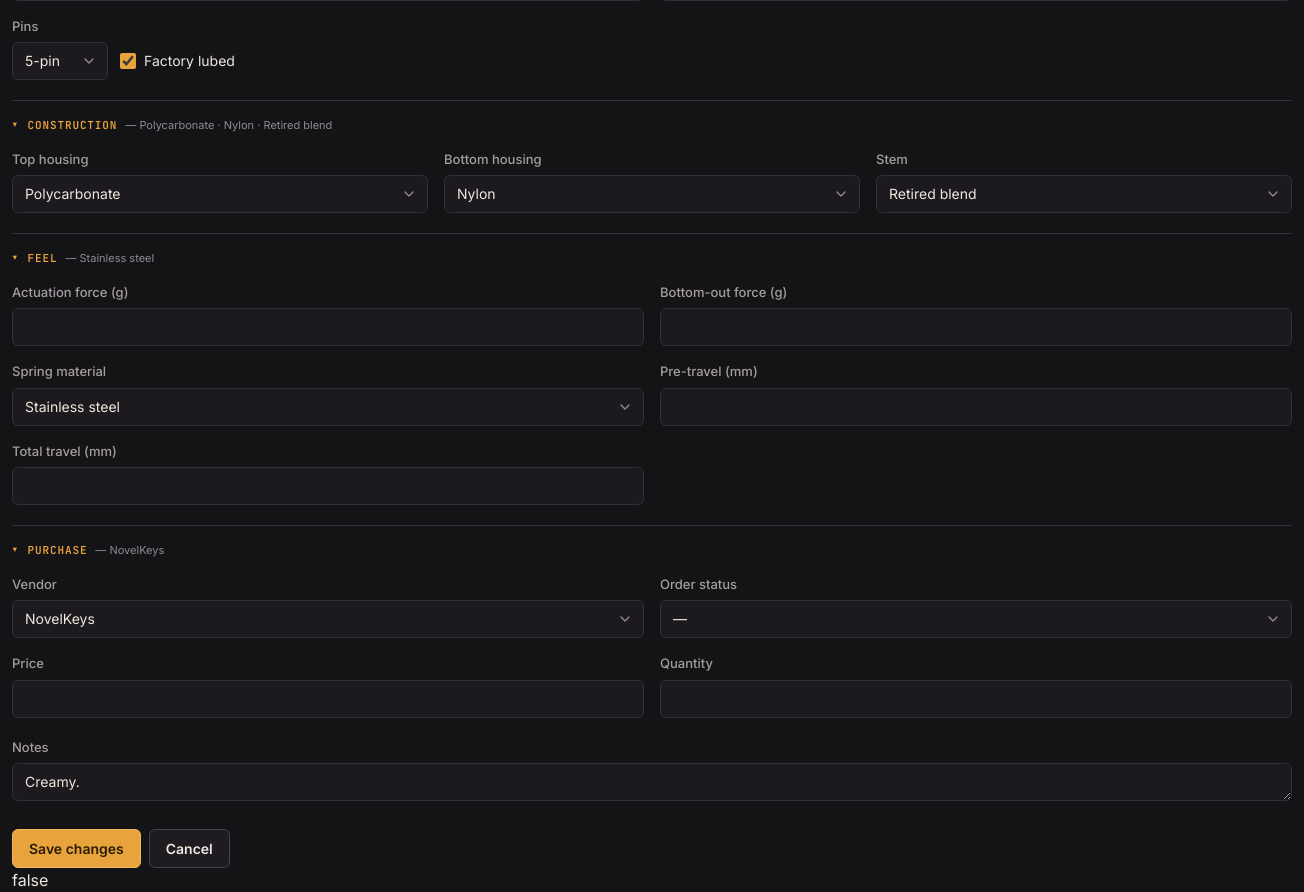
Test: SwitchForm.svelte › cleared number fields › Price leaves the form clean once typed into and cleared
This screenshot has width=1304, height=892.
(page scrolled)
Step 1. Type "5" into the number field labelled "Price" → (328, 699), box x1=12 y1=680 x2=644 y2=718
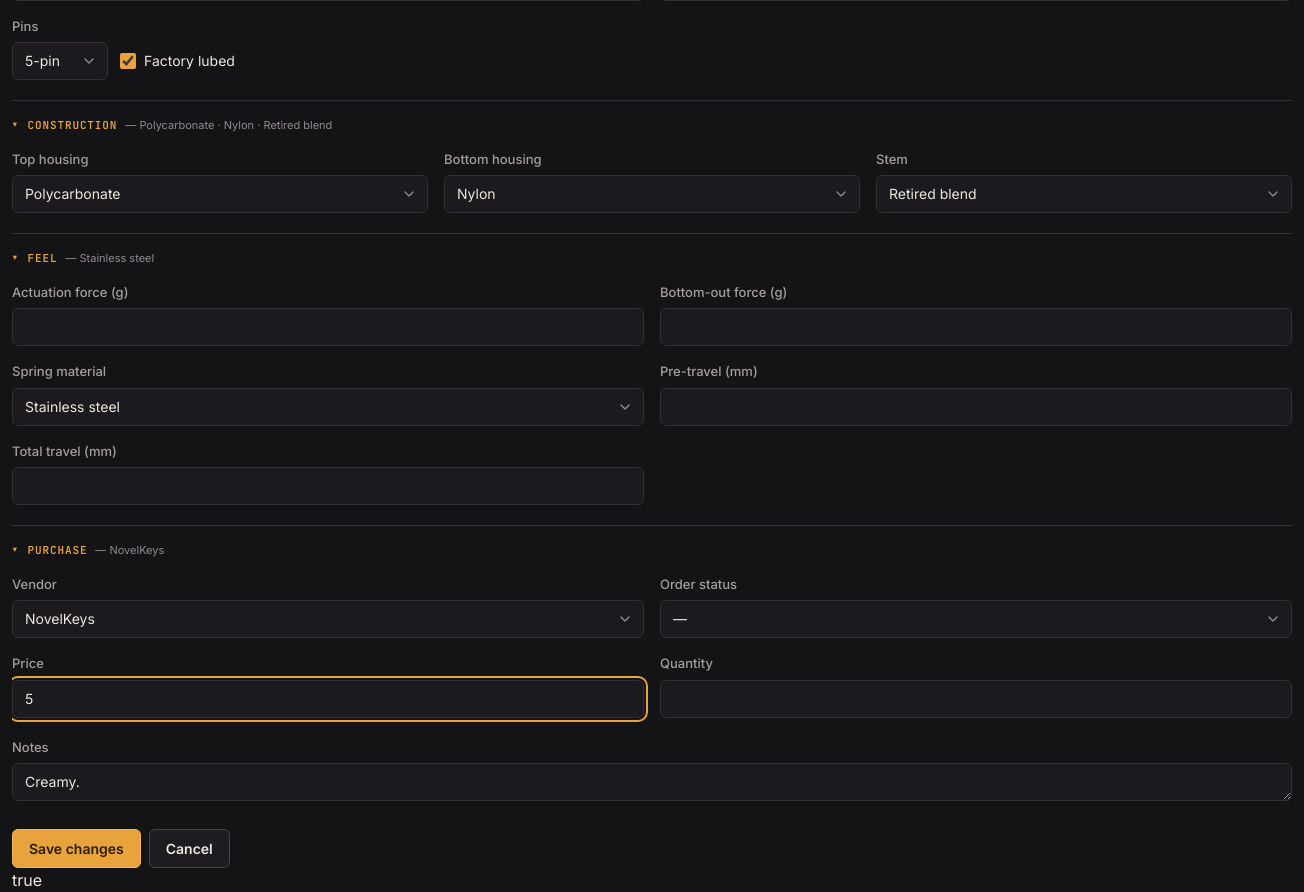
Check: the text with test id "dirty" reads "true", box x1=12 y1=870 x2=42 y2=890
Step 2. Clear the number field labelled "Price" → (328, 699), box x1=12 y1=680 x2=644 y2=718
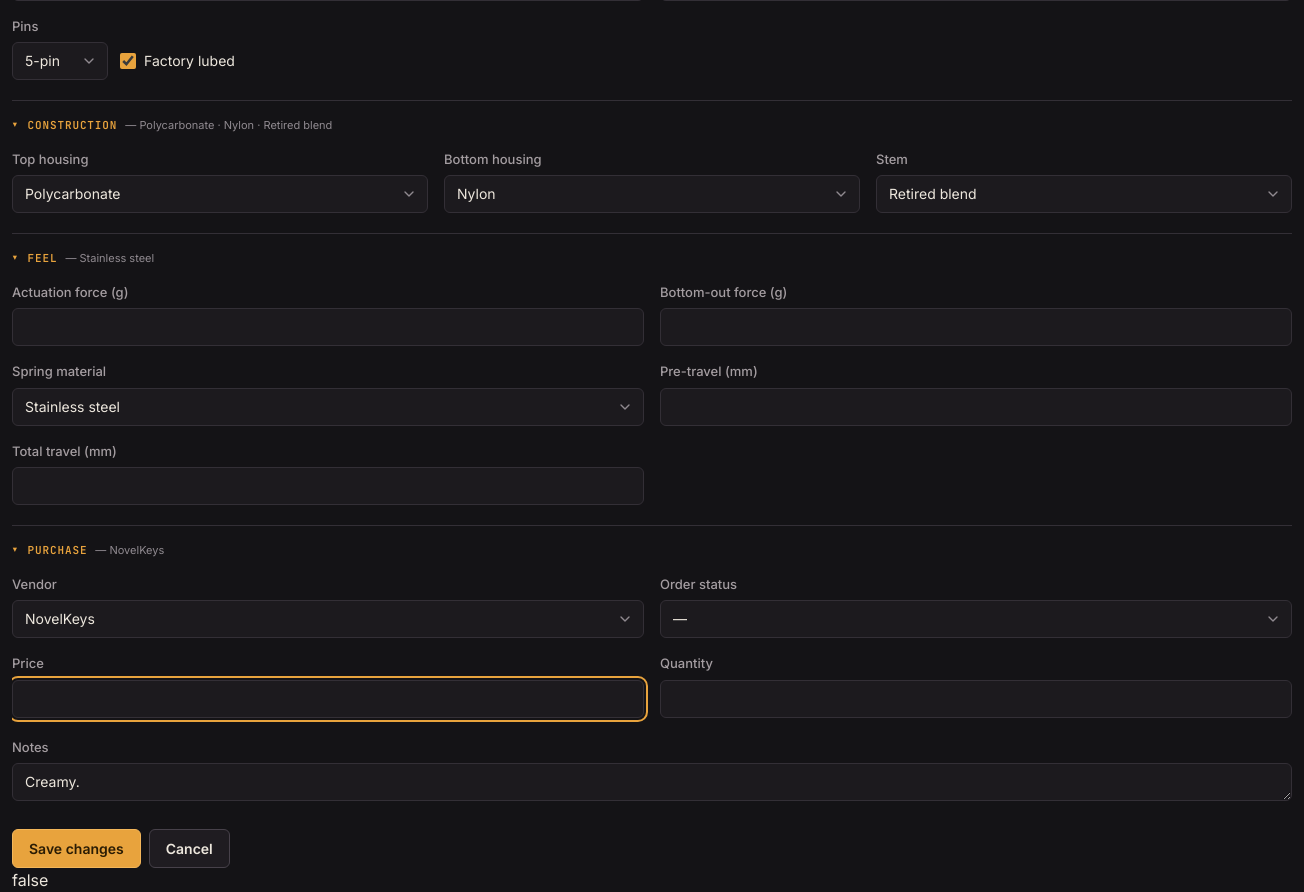
Check: the text with test id "dirty" reads "false", box x1=12 y1=870 x2=48 y2=890
